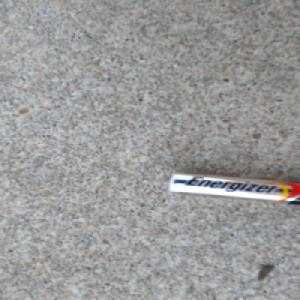Battery: (164, 168, 300, 206)
